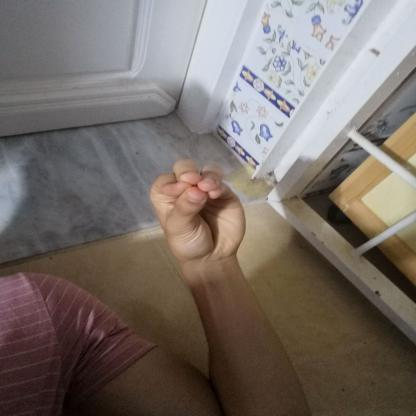HA: (132, 146, 263, 274)
